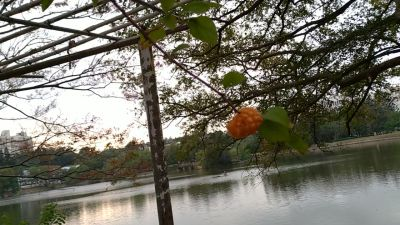eggs: (226, 106, 264, 142)
